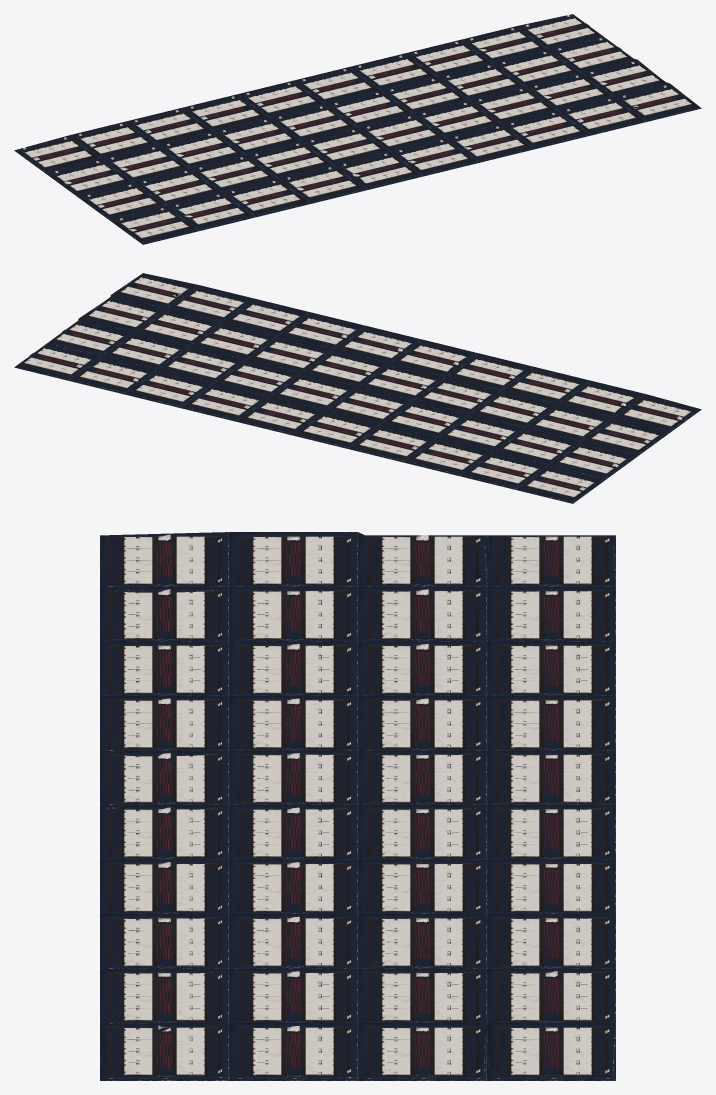
File: floor-panel.glb
The picture shows the model from 3 angles, top to bottom: view 1: azimuth 30°, elevation 25°; view 2: azimuth 150°, elevation 25°; view 3: azimuth 270°, elevation 25°; orthographic projection. The views are drawn at different scales.
Parts seen in each view (by area): view 1: SciFi_Floor_Panel01_low_M_Walkway_SP_0; view 2: SciFi_Floor_Panel01_low_M_Walkway_SP_0; view 3: SciFi_Floor_Panel01_low_M_Walkway_SP_0.
Part boxes in pixels (left/top/right/bottom): SciFi_Floor_Panel01_low_M_Walkway_SP_0: left=14, top=14, right=701, bottom=244; SciFi_Floor_Panel01_low_M_Walkway_SP_0: left=14, top=273, right=701, bottom=503; SciFi_Floor_Panel01_low_M_Walkway_SP_0: left=100, top=532, right=615, bottom=1080.
Bounding box in the file's own units: 20 × 0.0806 × 8.
Materials: 1 (1 with a texture image).
